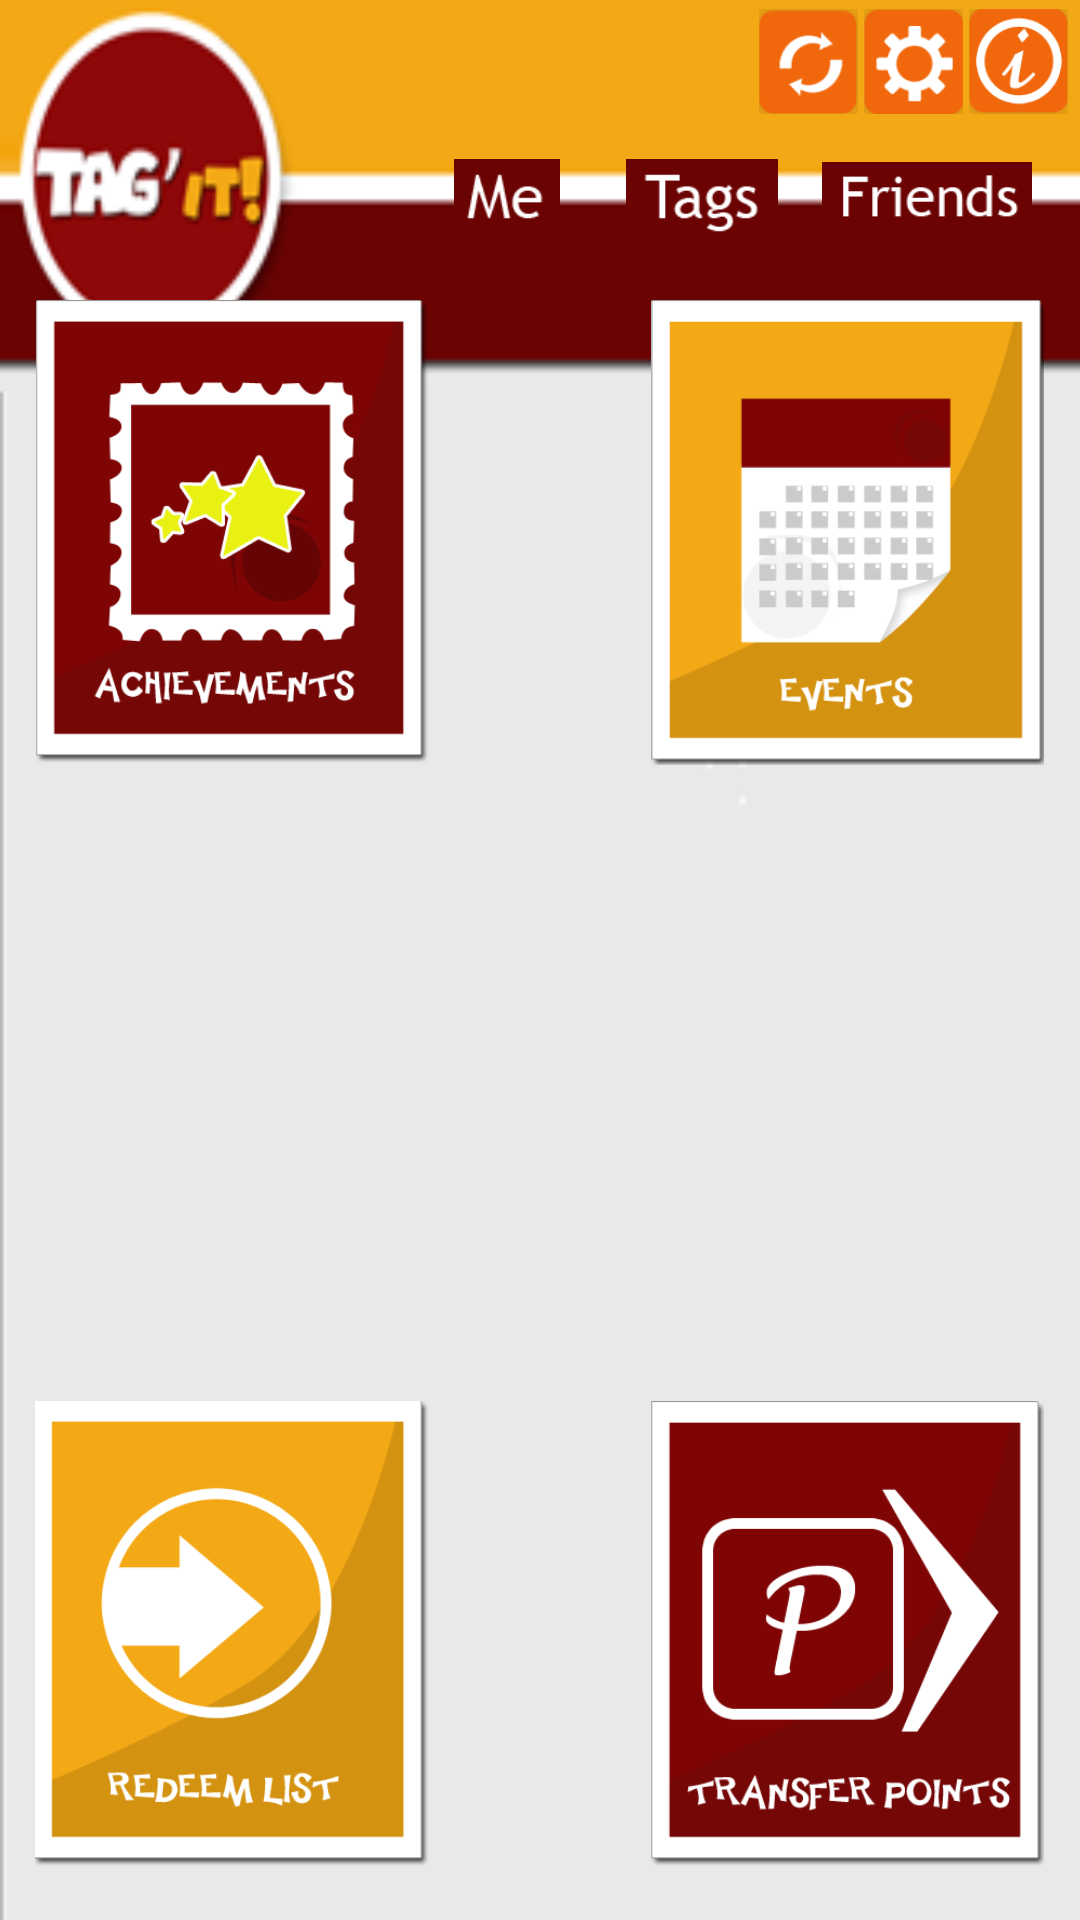

Locate icon controls on the screen. Image size 1080 x 1920, boxes as (x1, y1, x2, y2).
about us: (969, 9, 1068, 114)
setting: (864, 9, 963, 114)
sync: (759, 9, 858, 114)
